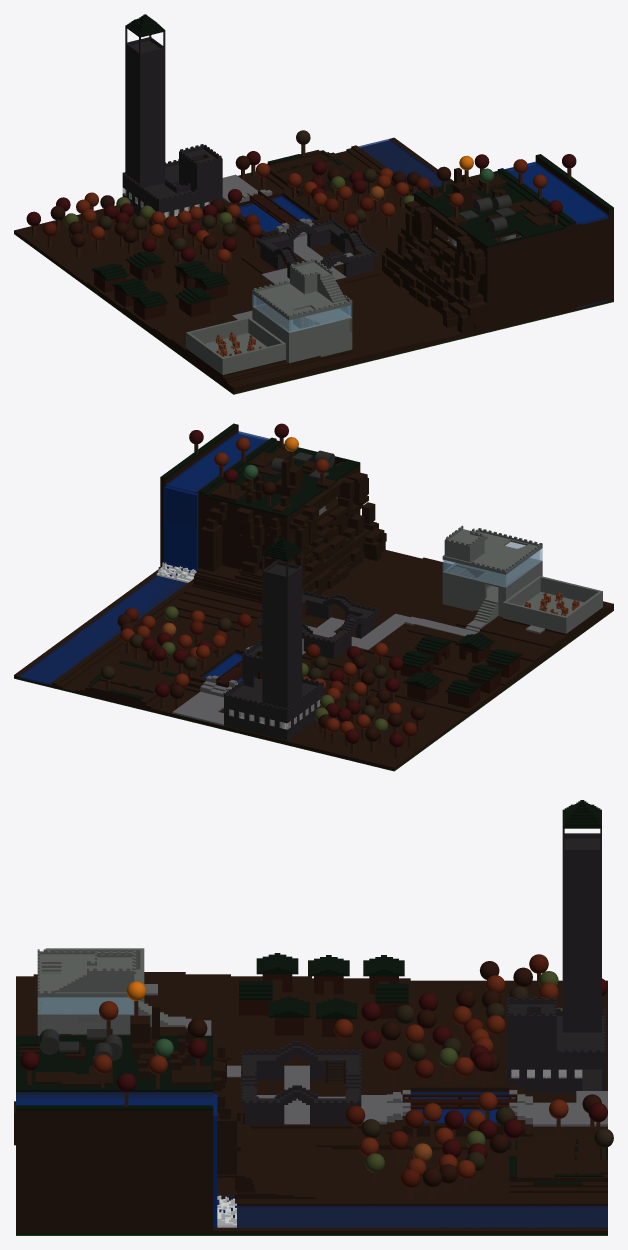
File: SunsetPlain.obj
3 views of the same model, one above another, from view 1: azimuth 30°, elevation 25°; view 2: azimuth 150°, elevation 25°; view 3: azimuth 270°, elevation 25° (orthographic). The views are drawn at different scales.
Parts seen in each view (by area): view 1: SmoothBlockModel750, SmoothBlockModel749, SmoothBlockModel748, SmoothBlockModel1189, SmoothBlockModel751, SmoothBlockModel559, SmoothBlockModel557, SmoothBlockModel682, SmoothBlockModel747, SmoothBlockModel683, SmoothBlockModel744, SmoothBlockModel487 (+20 smaller); view 2: SmoothBlockModel751, SmoothBlockModel750, SmoothBlockModel749, SmoothBlockModel748, SmoothBlockModel1189, SmoothBlockModel744, SmoothBlockModel685, SmoothBlockModel747, SmoothBlockModel682, SmoothBlockModel558, SmoothBlockModel746, SmoothBlockModel487 (+29 smaller); view 3: SmoothBlockModel751, SmoothBlockModel633, SmoothBlockModel744, SmoothBlockModel628, SmoothBlockModel1189, SmoothBlockModel750, SmoothBlockModel749, SmoothBlockModel748, SmoothBlockModel747, SmoothBlockModel742, SmoothBlockModel108, SmoothBlockModel682 (+41 smaller).
Part boxes in pixels (bbox=[...]): SmoothBlockModel750: bbox=[14, 171, 487, 392]; SmoothBlockModel749: bbox=[87, 220, 487, 390]; SmoothBlockModel748: bbox=[123, 268, 423, 389]; SmoothBlockModel1189: bbox=[125, 41, 165, 187]; SmoothBlockModel751: bbox=[14, 140, 613, 394]; SmoothBlockModel559: bbox=[489, 250, 613, 320]; SmoothBlockModel557: bbox=[485, 219, 613, 279]; SmoothBlockModel682: bbox=[504, 161, 608, 224]; SmoothBlockModel747: bbox=[153, 302, 353, 382]; SmoothBlockModel683: bbox=[509, 164, 608, 224]; SmoothBlockModel744: bbox=[358, 139, 608, 308]; SmoothBlockModel487: bbox=[414, 183, 516, 240]; SmoothBlockModel751: bbox=[14, 576, 613, 770]; SmoothBlockModel750: bbox=[140, 607, 613, 769]; SmoothBlockModel749: bbox=[214, 550, 613, 713]; SmoothBlockModel748: bbox=[334, 557, 613, 685]; SmoothBlockModel1189: bbox=[262, 564, 302, 709]; SmoothBlockModel744: bbox=[19, 575, 187, 685]; SmoothBlockModel685: bbox=[164, 486, 198, 572]; SmoothBlockModel747: bbox=[407, 604, 607, 661]; SmoothBlockModel682: bbox=[165, 431, 269, 493]; SmoothBlockModel558: bbox=[160, 488, 288, 544]; SmoothBlockModel746: bbox=[456, 606, 605, 648]; SmoothBlockModel487: bbox=[249, 459, 351, 517]; SmoothBlockModel751: bbox=[16, 1149, 607, 1234]; SmoothBlockModel633: bbox=[20, 1166, 213, 1219]; SmoothBlockModel744: bbox=[237, 1206, 607, 1227]; SmoothBlockModel628: bbox=[20, 1123, 209, 1164]; SmoothBlockModel1189: bbox=[562, 838, 601, 1032]; SmoothBlockModel750: bbox=[331, 980, 607, 1149]; SmoothBlockModel749: bbox=[252, 978, 410, 1147]; SmoothBlockModel748: bbox=[16, 976, 311, 1101]; SmoothBlockModel747: bbox=[33, 974, 230, 1059]; SmoothBlockModel742: bbox=[16, 1227, 607, 1232]; SmoothBlockModel108: bbox=[517, 1141, 600, 1174]; SmoothBlockModel682: bbox=[16, 1092, 213, 1105].
Size of the model in its own units: 302 by 153 by 304.
